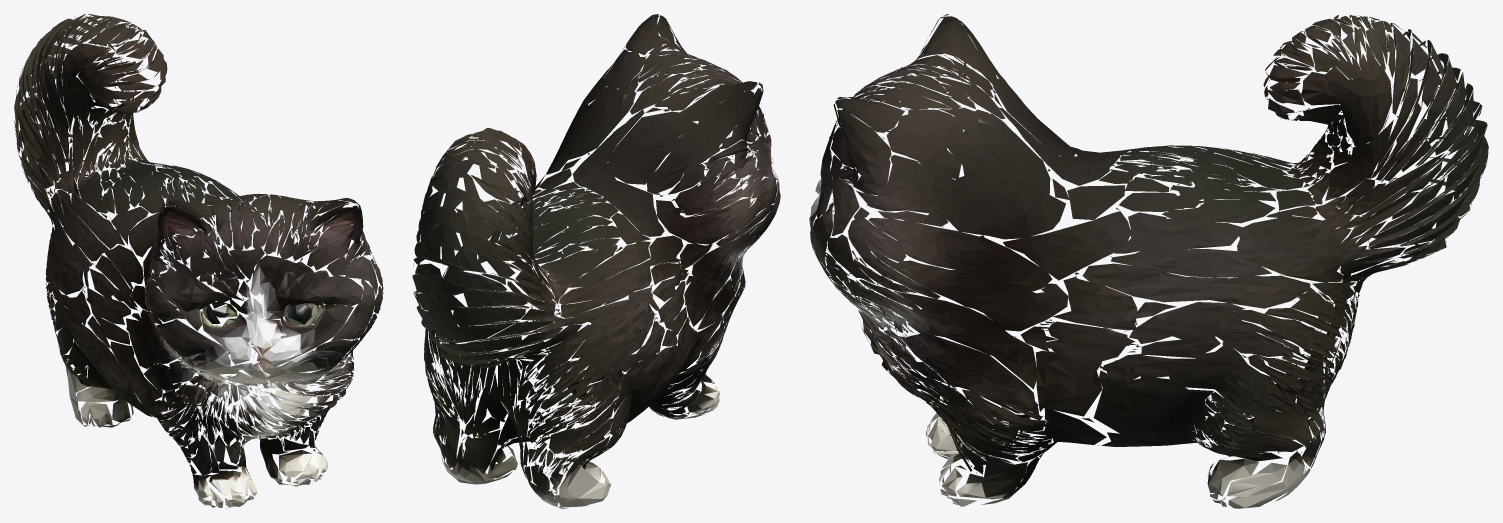
The model's file is pet_tux.glb.
3 renders of one model, left to right at view 1: azimuth 30°, elevation 25°; view 2: azimuth 150°, elevation 25°; view 3: azimuth 270°, elevation 25°, orthographic. The views are drawn at different scales.
Parts seen in each view (by area): view 1: tux; view 2: tux; view 3: tux.
Boxes of the visible parts, x1=… form: tux: x1=14, y1=14, x2=383, y2=508; tux: x1=412, y1=14, x2=780, y2=508; tux: x1=809, y1=14, x2=1488, y2=508.
Size of the model in its own units: 0.5835 by 1 by 1.36.
Materials: 1 (1 with a texture image).
